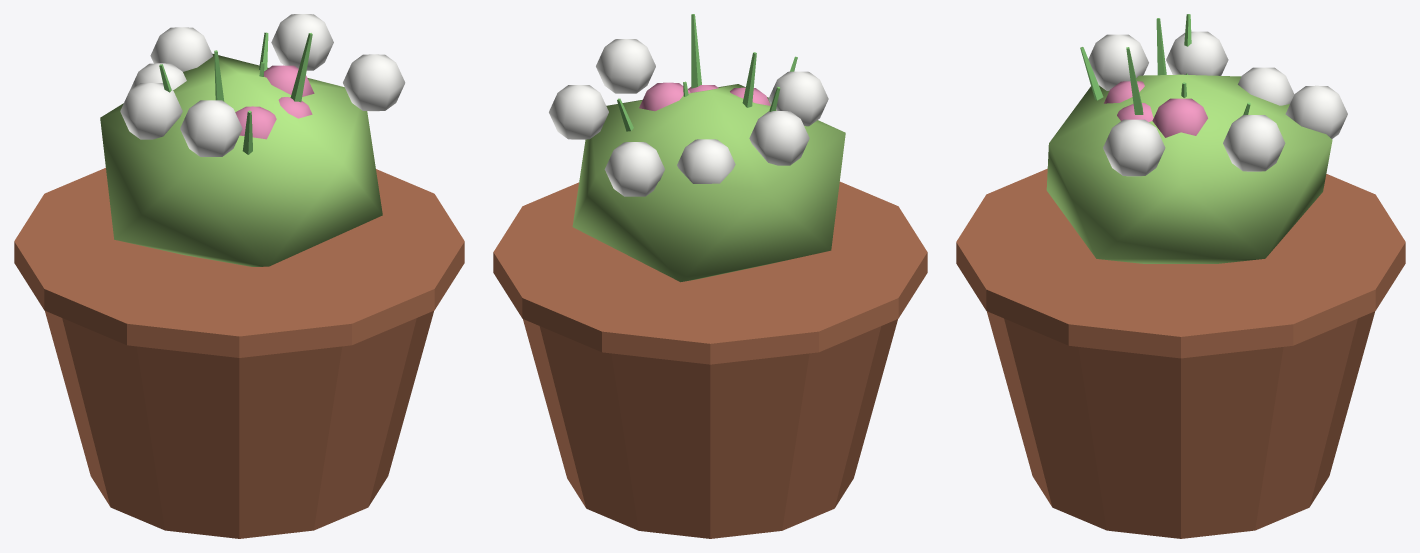
The model's file is planter.glb.
The picture shows the model from 3 angles, left to right: view 1: azimuth 30°, elevation 25°; view 2: azimuth 150°, elevation 25°; view 3: azimuth 270°, elevation 25°; orthographic projection. The views are drawn at different scales.
Visible parts, largest first — view 1: planter_pot_terracotta, planter_shrub_light, planter_flower_white, planter_flower_pink, planter_foliage_green; view 2: planter_pot_terracotta, planter_shrub_light, planter_flower_white, planter_foliage_green, planter_flower_pink; view 3: planter_pot_terracotta, planter_shrub_light, planter_flower_white, planter_flower_pink, planter_foliage_green.
Part boxes in pixels (<box>): planter_pot_terracotta: <box>14,168,464,538</box>; planter_shrub_light: <box>100,53,382,266</box>; planter_flower_white: <box>120,14,405,156</box>; planter_flower_pink: <box>235,65,314,139</box>; planter_foliage_green: <box>159,32,312,154</box>; planter_pot_terracotta: <box>493,181,927,538</box>; planter_shrub_light: <box>572,84,845,282</box>; planter_flower_white: <box>549,39,828,196</box>; planter_foliage_green: <box>617,14,797,131</box>; planter_flower_pink: <box>639,82,770,111</box>; planter_pot_terracotta: <box>956,168,1405,538</box>; planter_shrub_light: <box>1046,74,1332,263</box>; planter_flower_white: <box>1088,31,1347,176</box>; planter_flower_pink: <box>1104,81,1207,137</box>; planter_foliage_green: <box>1080,14,1250,114</box>.
Bounding box in the file's own units: 0.8904 × 0.9844 × 0.8904.
